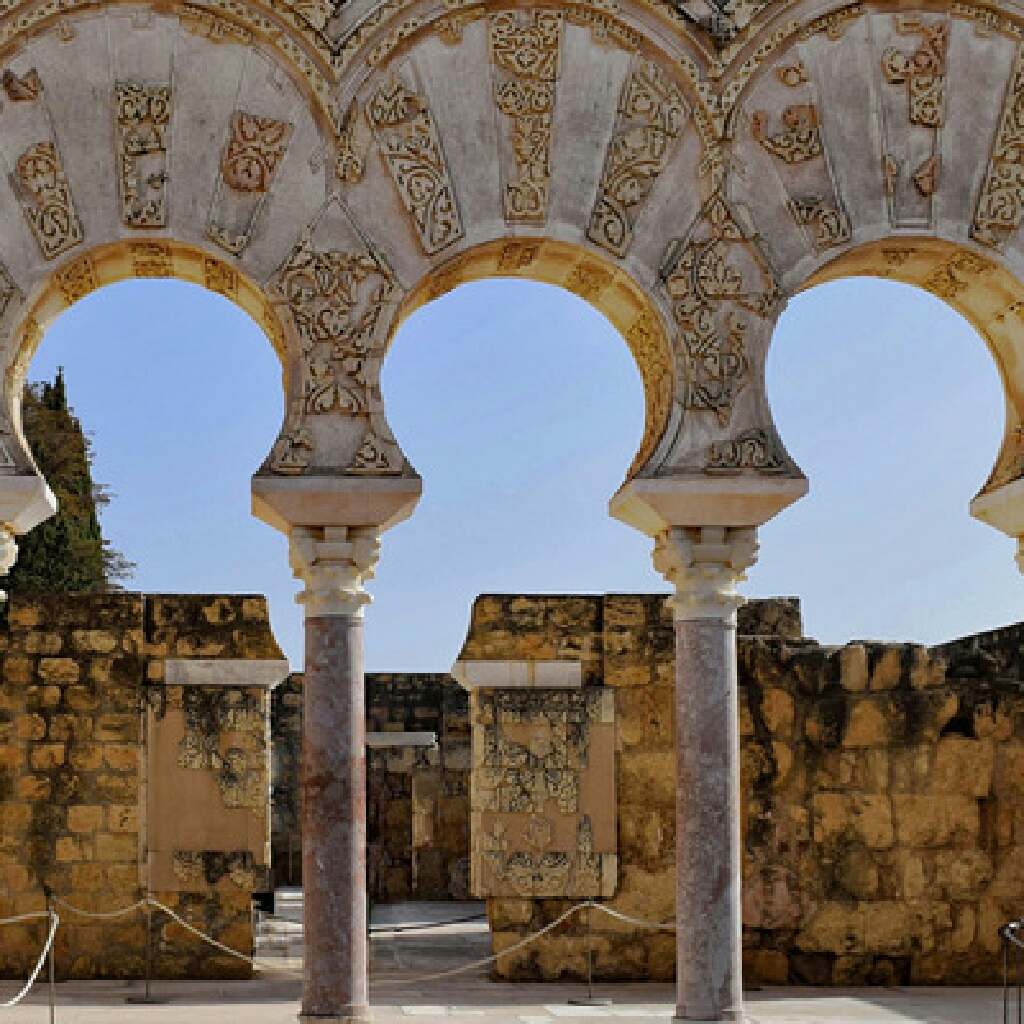arco-herradura: (328, 207, 704, 566), (707, 201, 1024, 575), (0, 219, 323, 536)
